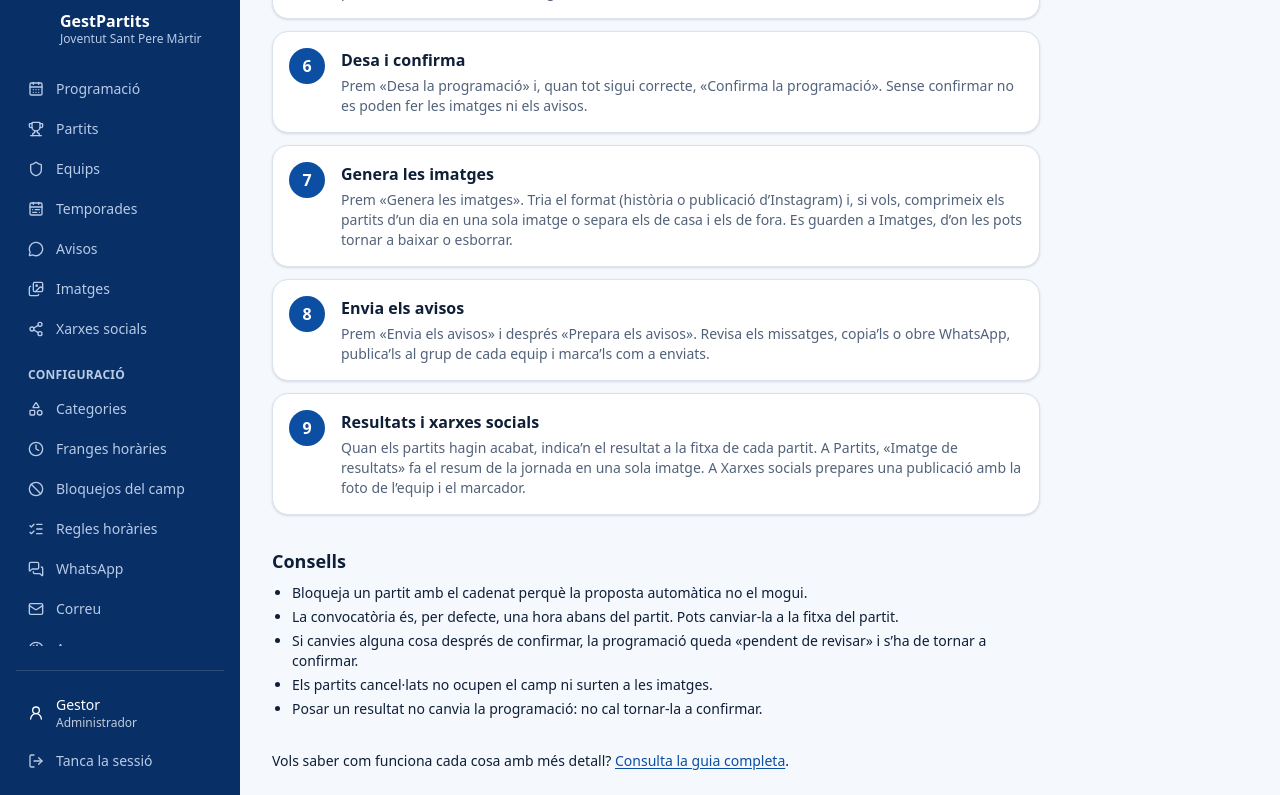
it: ajuda › la guia ràpida mostra tots els passos numerats i enllaça amb la completa
(page scrolled)
Expected: the heading "Desa i confirma" is shown, [341,49,466,71]
Expected: the heading "Genera les imatges" is shown, [341,163,494,185]
Click the link "Consulta la guia completa" at (700, 760), box [615,751,785,770]
(page scrolled)
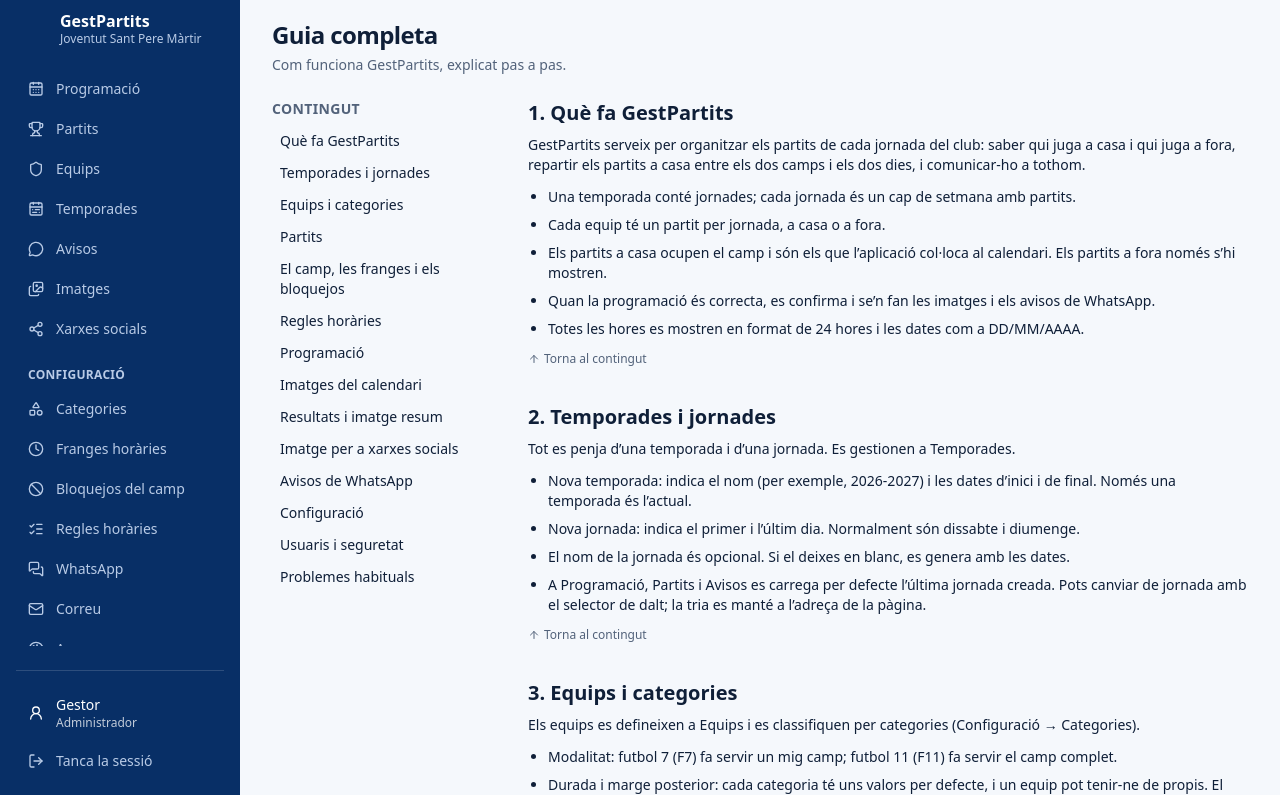
Now the heading "Guia completa" is shown, box [272,18,438,51]
